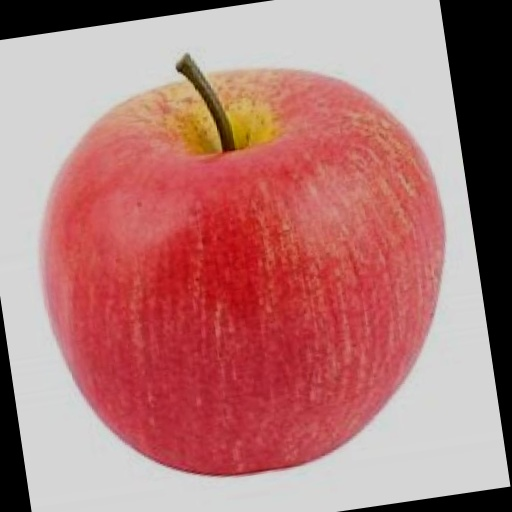fruit: (42, 70, 443, 474)
